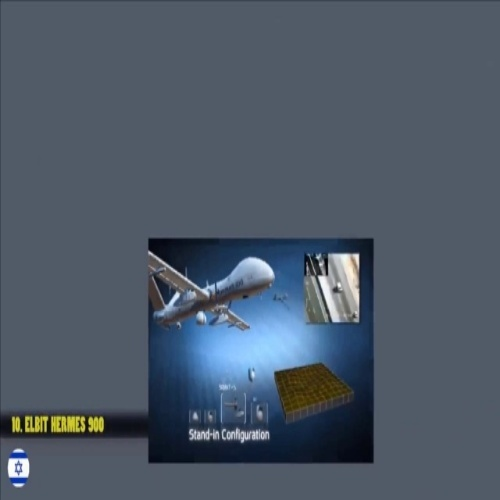uav: (147, 242, 274, 332)
